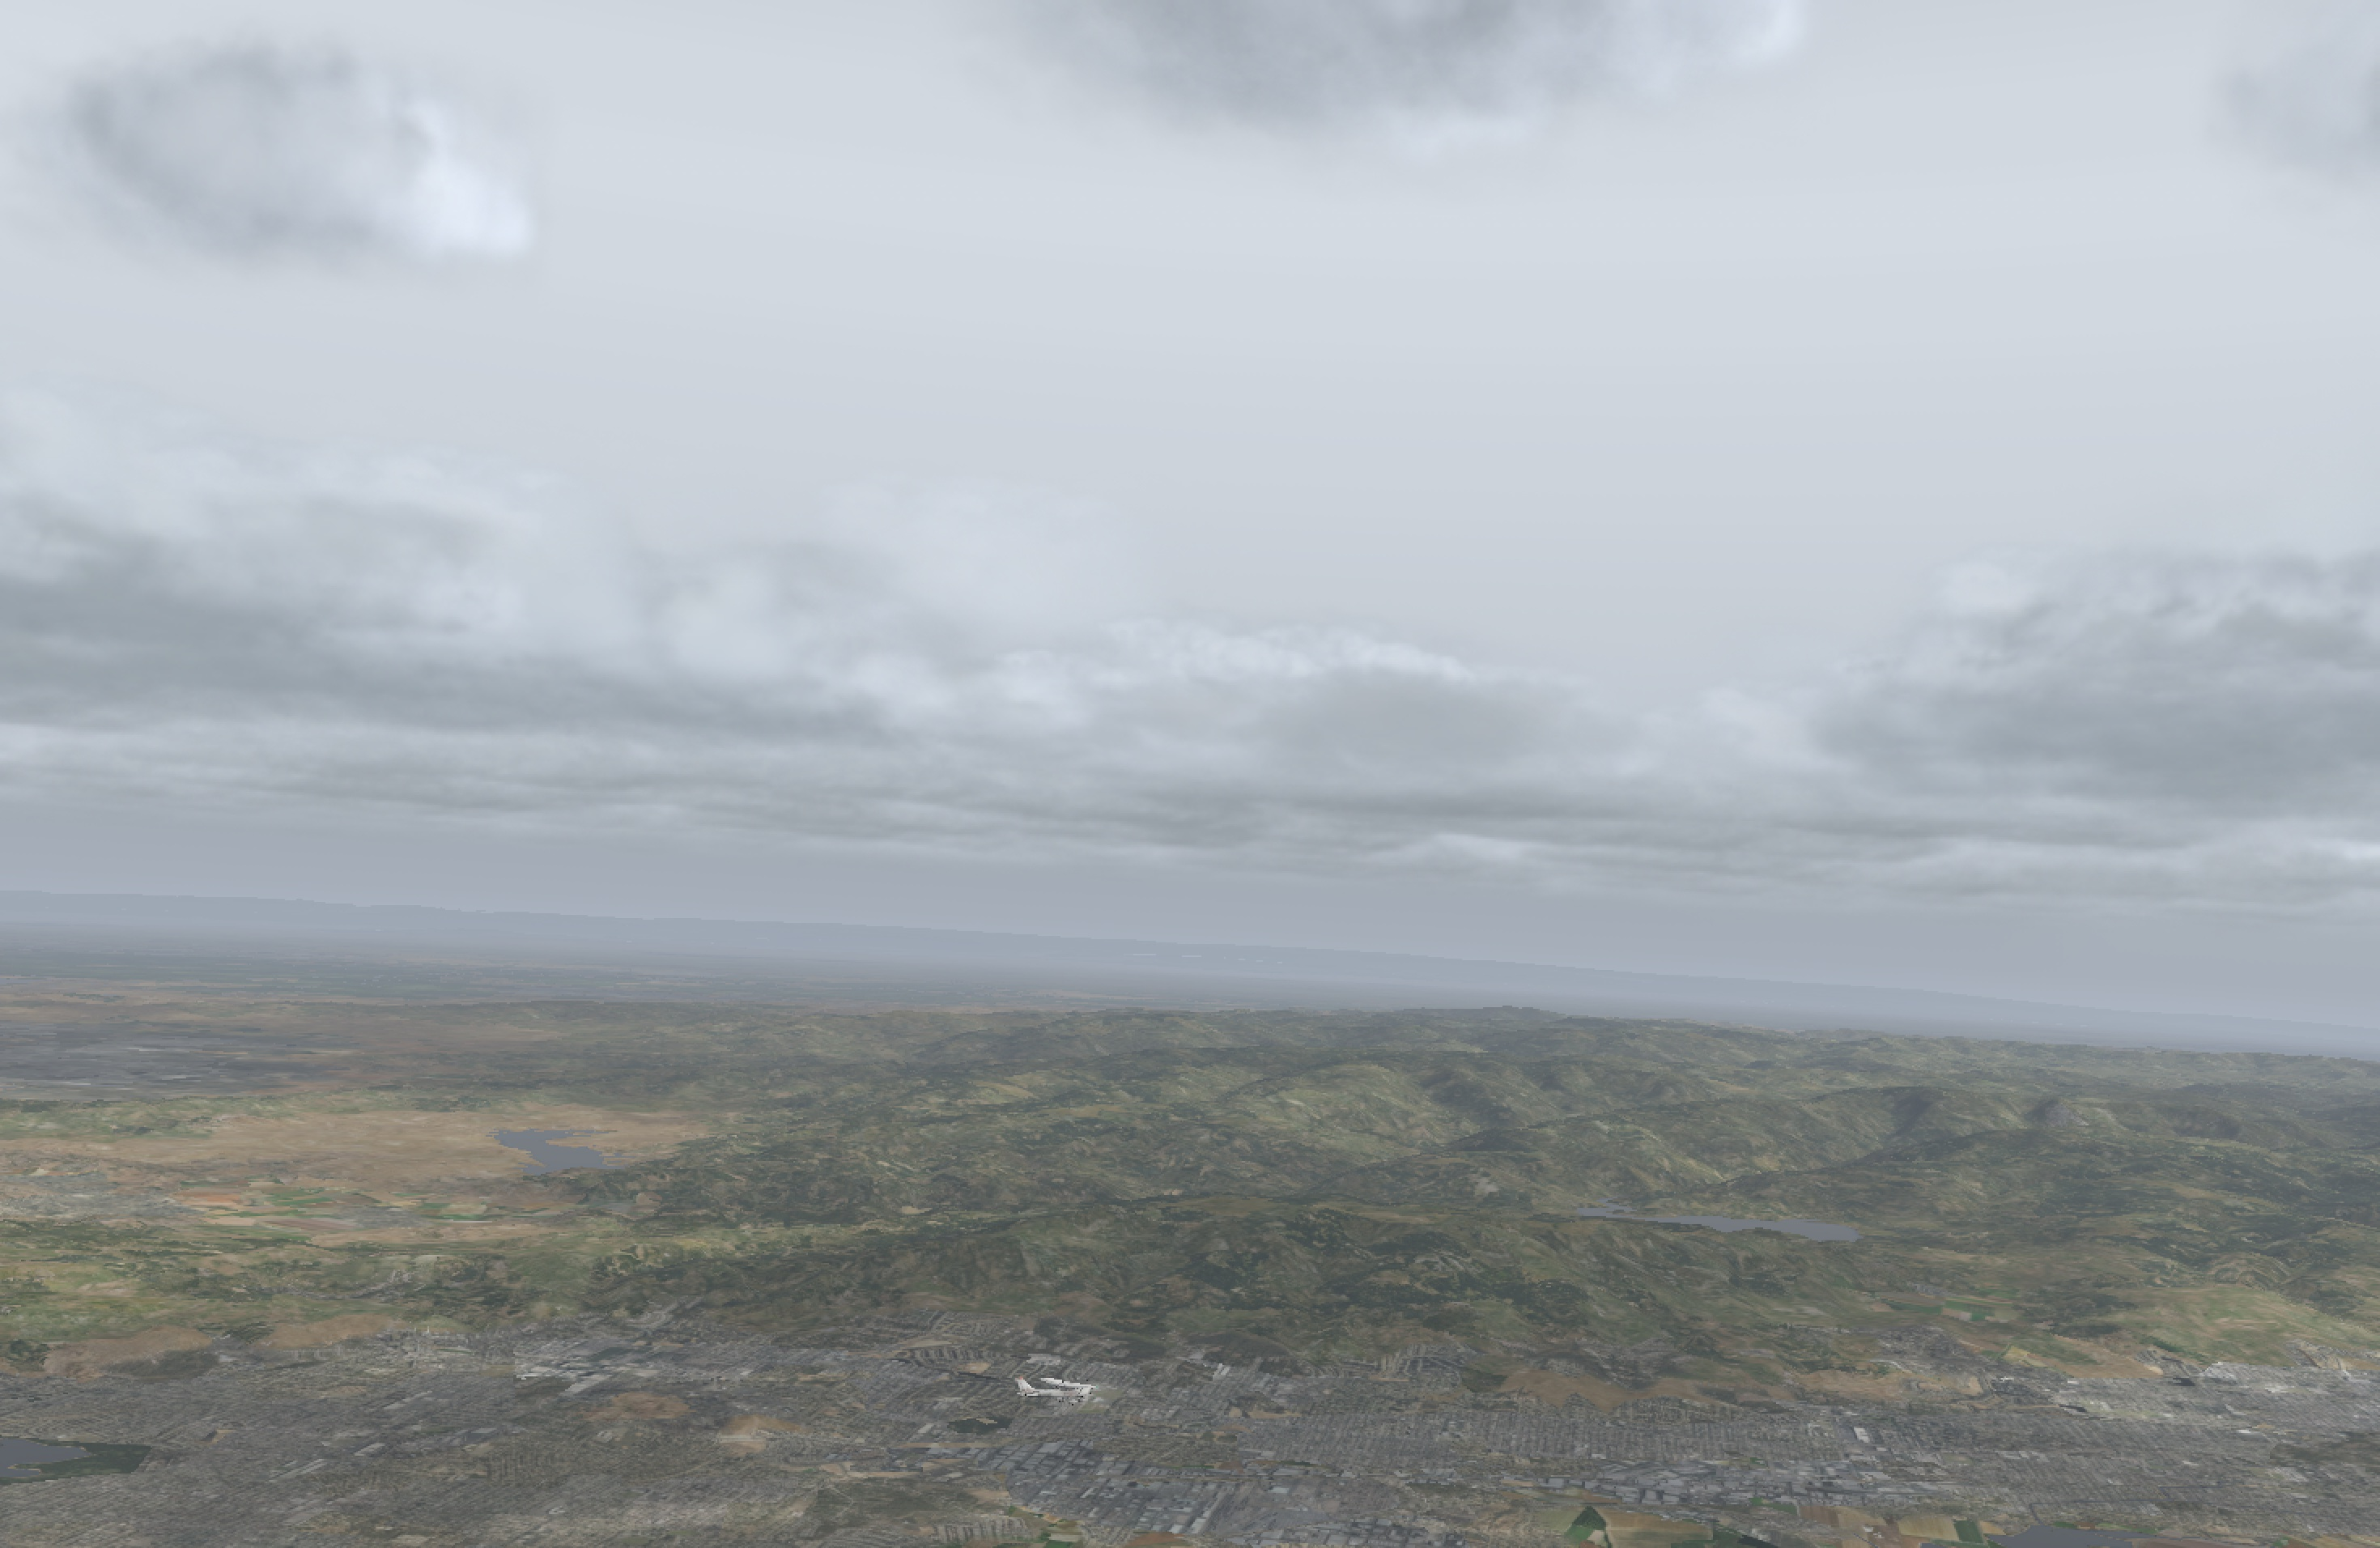aircraft: (1032, 1376, 1108, 1404)
